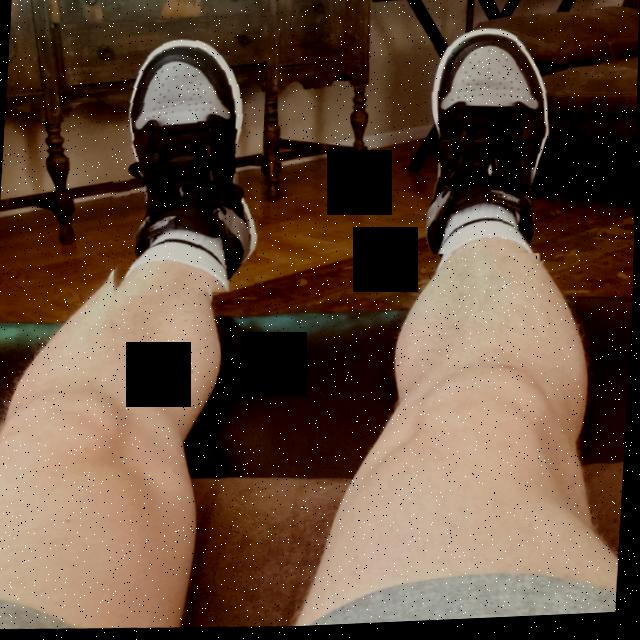shoe: (97, 31, 269, 302), (405, 23, 571, 263)
